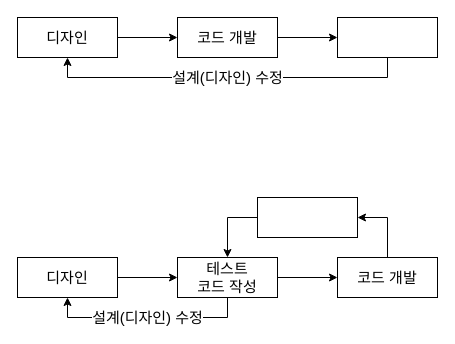
Some shapes in this 455 by 344 pixel diagram are drawn without their labels. The box of each missing label's shape, as (x1, y1, x2, y2) in pixels:
리펙토링: (256, 196, 358, 238)
테스트: (336, 16, 438, 58)
